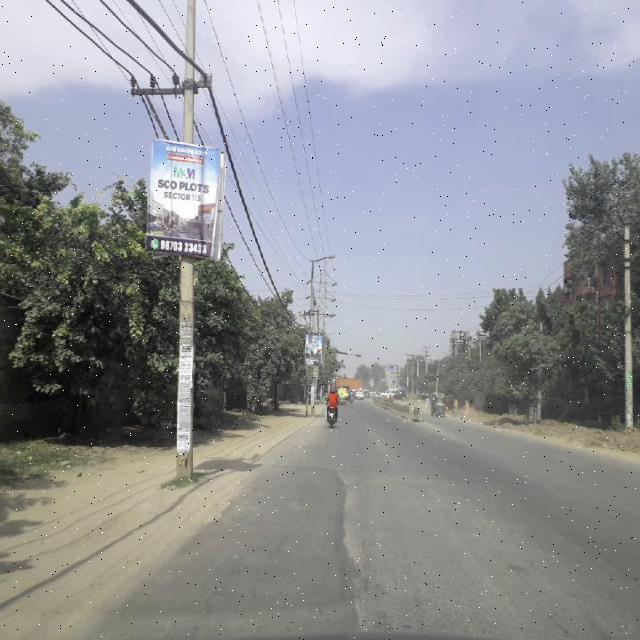D00: (322, 471, 370, 631)
